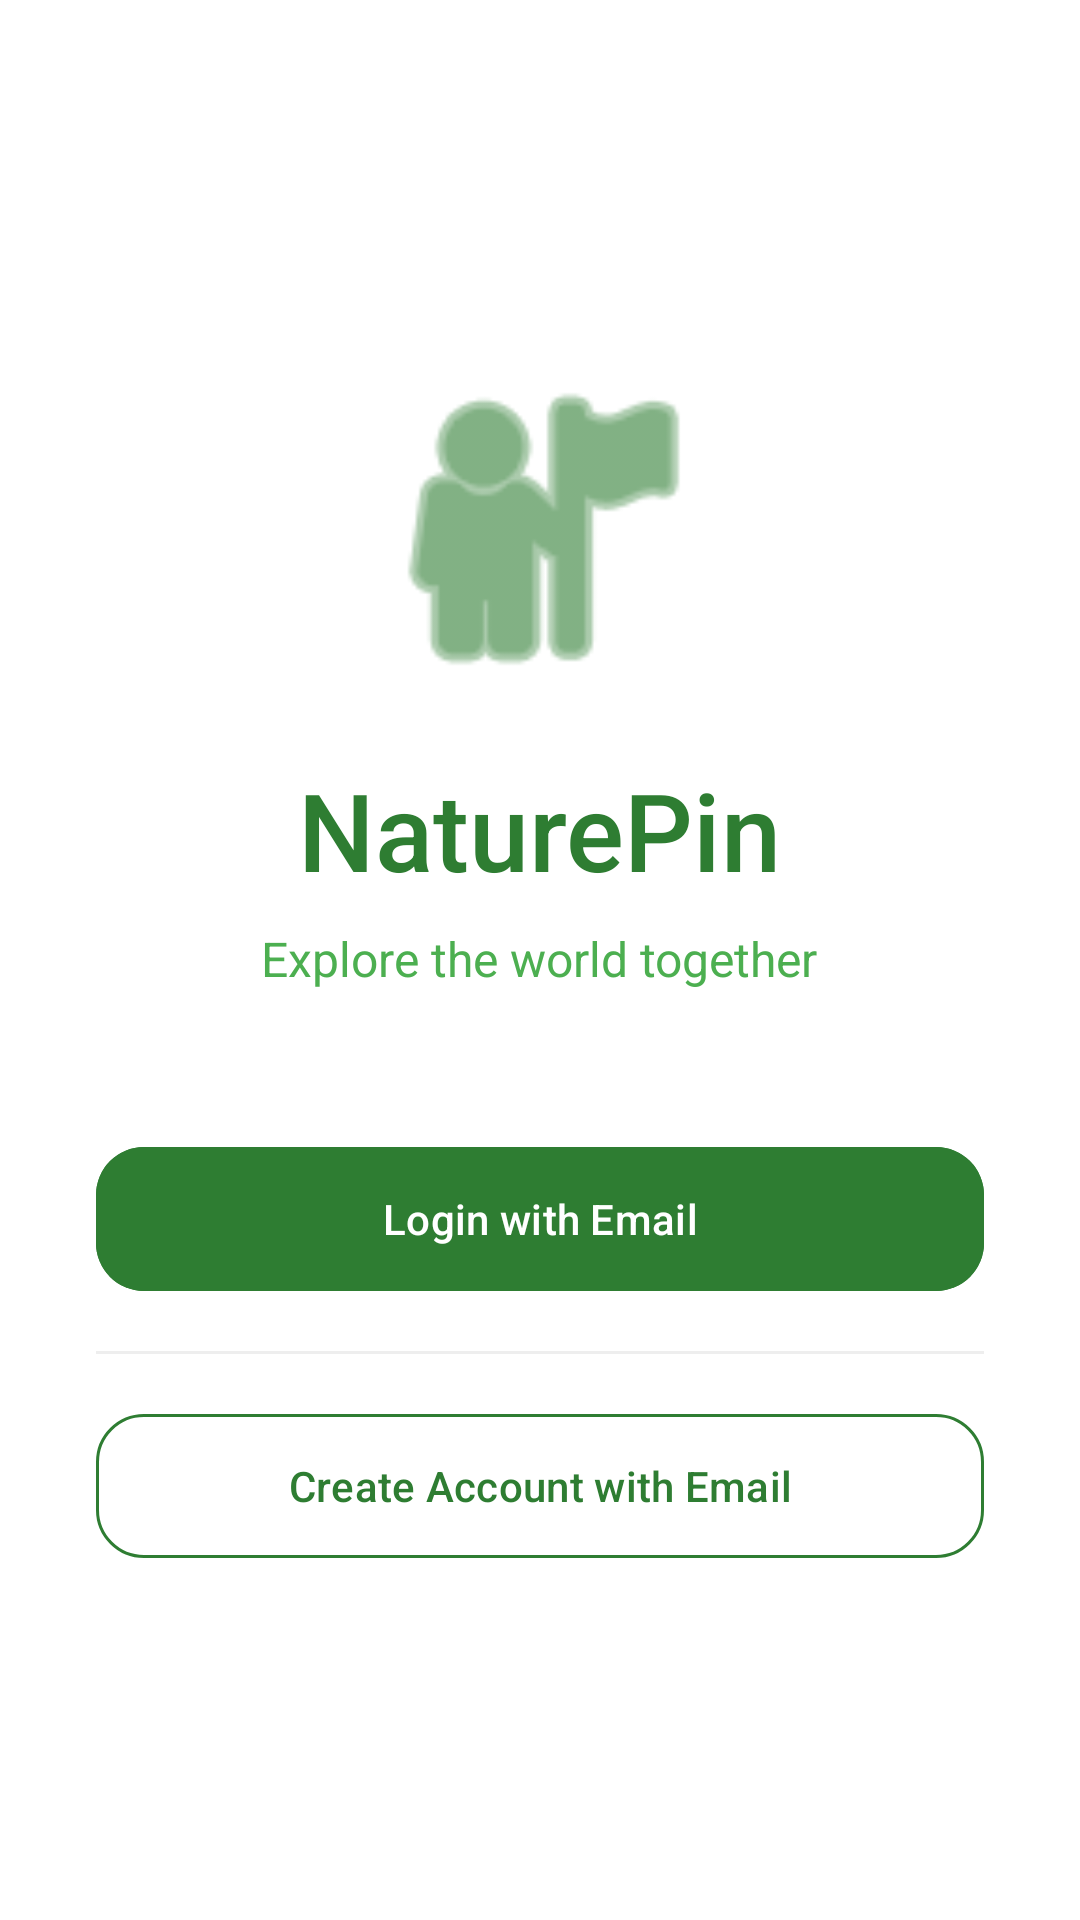

Locate icon controls on the screen. Image size 1080 x 1920, boxes as [x1=x1, y1=y1, x2=x2, y2=y2].
myplaces: [x1=408, y1=395, x2=679, y2=663]
